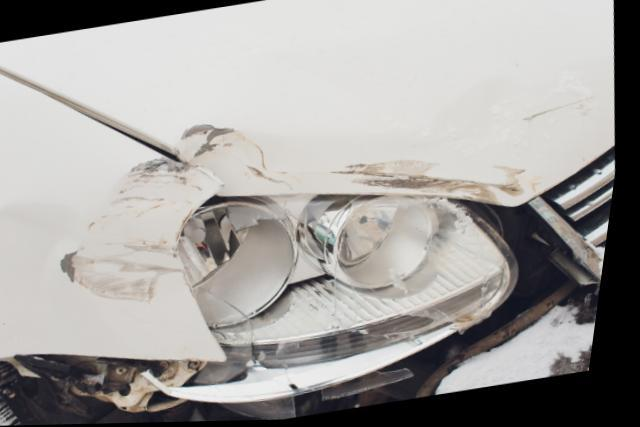dent: (0, 160, 233, 362)
lamp broken: (181, 196, 528, 406)
no part: (0, 203, 610, 425)
scratch: (174, 120, 534, 209)
